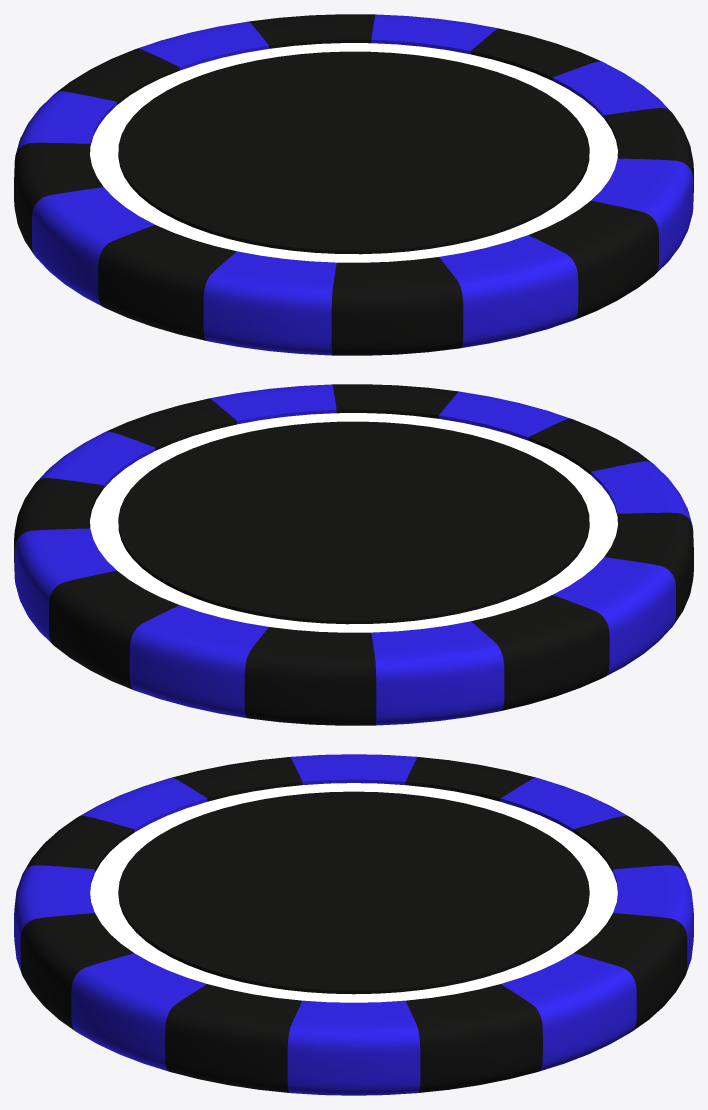
The model's file is chip_black.glb.
3 views of the same model, one above another, from view 1: azimuth 30°, elevation 25°; view 2: azimuth 150°, elevation 25°; view 3: azimuth 270°, elevation 25° (orthographic).
Parts seen in each view (by area): view 1: Cylinder; view 2: Cylinder; view 3: Cylinder.
Boxes of the visible parts, x1=… form: Cylinder: x1=14, y1=14, x2=693, y2=355; Cylinder: x1=14, y1=384, x2=693, y2=725; Cylinder: x1=14, y1=754, x2=693, y2=1095.
Bounding box in the file's own units: 0.8942 × 0.0981 × 0.8942.
